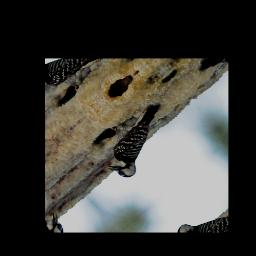Woodpecker: (89, 95, 186, 186)
